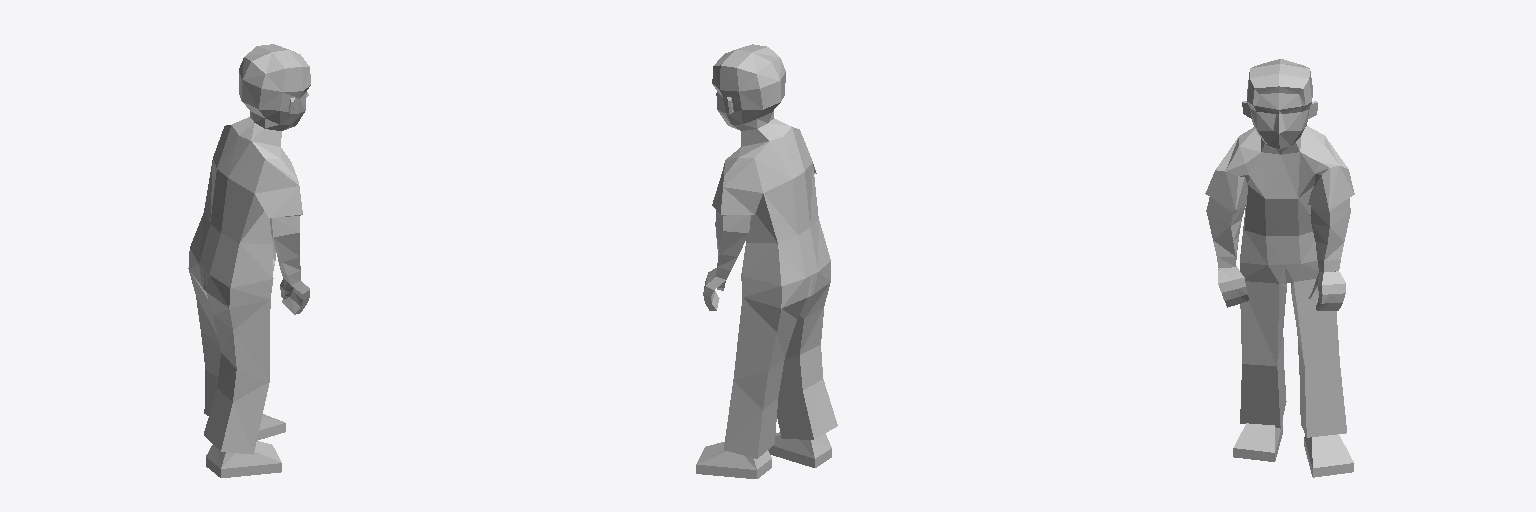
The model's file is zombie_male_idle_2.obj.
3 views of the same model, side by side, from view 1: azimuth 30°, elevation 25°; view 2: azimuth 150°, elevation 25°; view 3: azimuth 270°, elevation 25° (orthographic).
Bounding box in the file's own units: 0.486 × 1.77 × 0.5981.